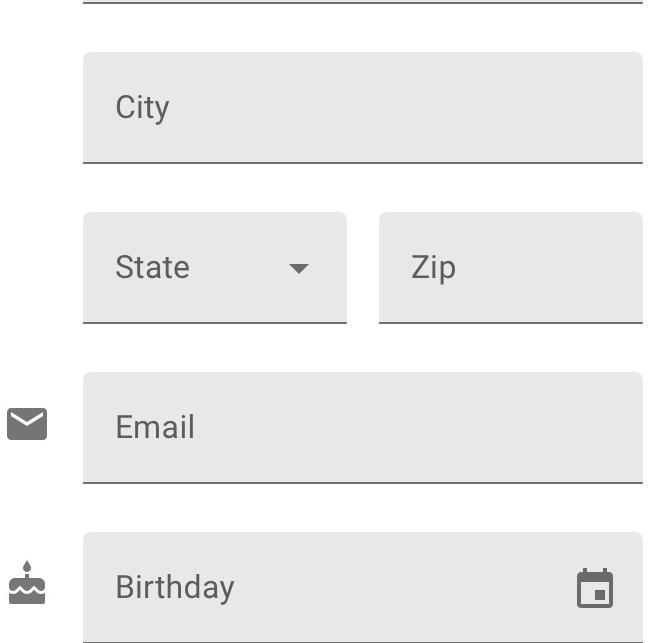field: (78, 367, 649, 490), (80, 47, 649, 167), (372, 207, 647, 329)
